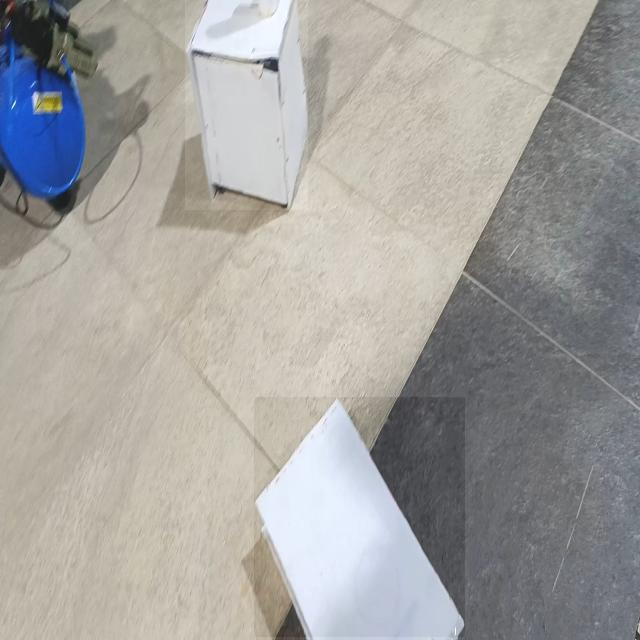Cube: (185, 0, 308, 210)
Cuboid: (254, 398, 465, 638)
